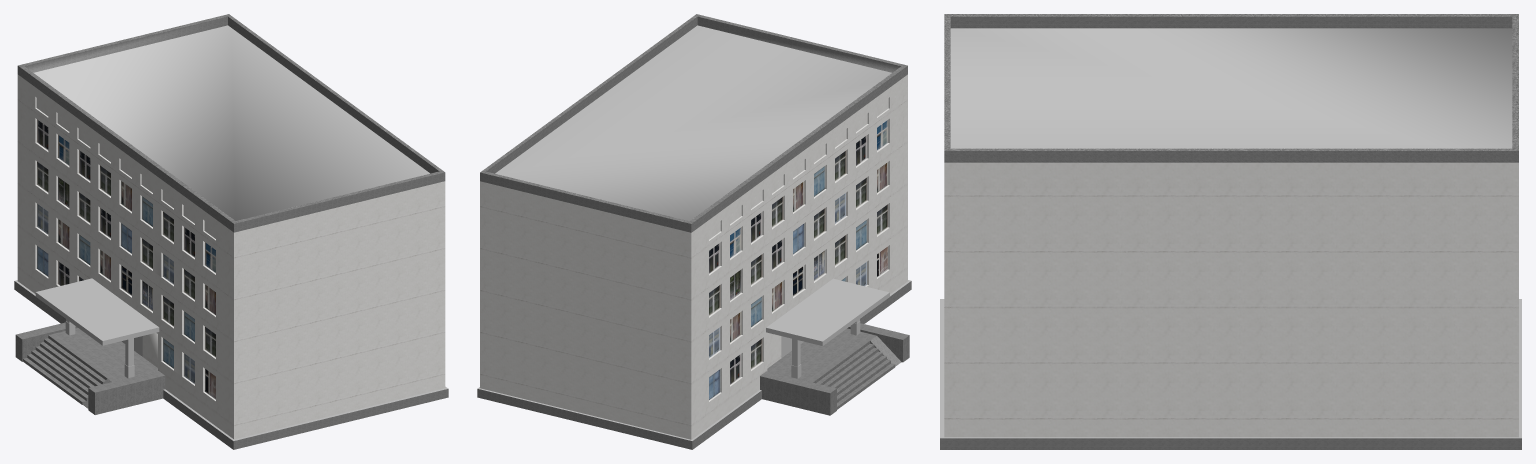
The model's file is BuildingBig02_1.FBX.
3 views of the same model, side by side, from view 1: azimuth 30°, elevation 25°; view 2: azimuth 150°, elevation 25°; view 3: azimuth 270°, elevation 25° (orthographic). The views are drawn at different scales.
Visible parts, largest first — view 1: Building02b; view 2: Building02b; view 3: Building02b.
Boxes of the visible parts, x1=… form: Building02b: x1=14, y1=14, x2=448, y2=449; Building02b: x1=477, y1=14, x2=911, y2=449; Building02b: x1=940, y1=14, x2=1521, y2=449.
Bounding box in the file's own units: 2028 × 1535 × 2716.
